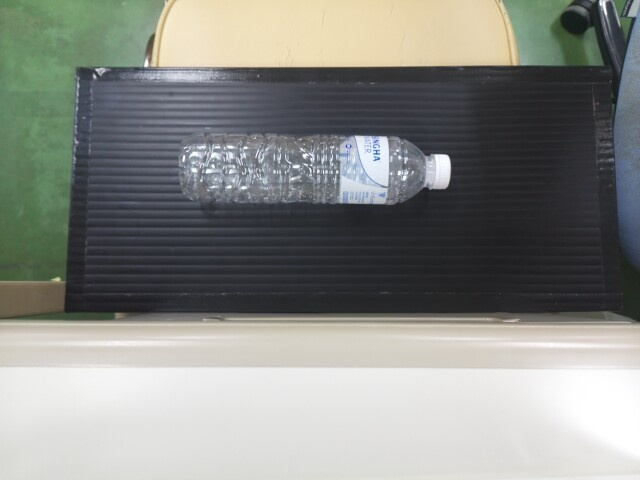plastic_bottle: (176, 132, 451, 205)
